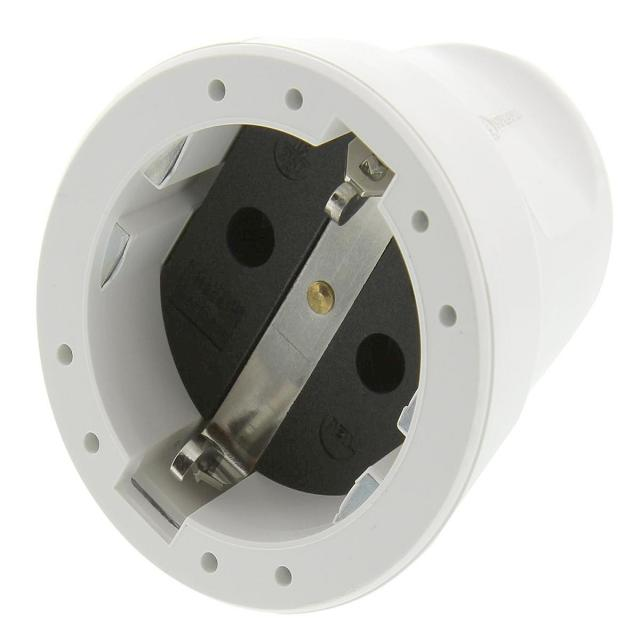typeb: (49, 43, 537, 555)
